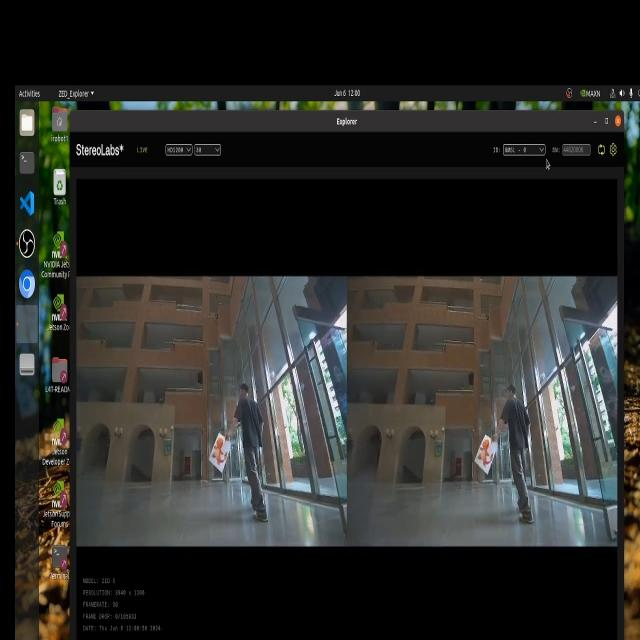red: (206, 428, 242, 473), (477, 422, 493, 468)
